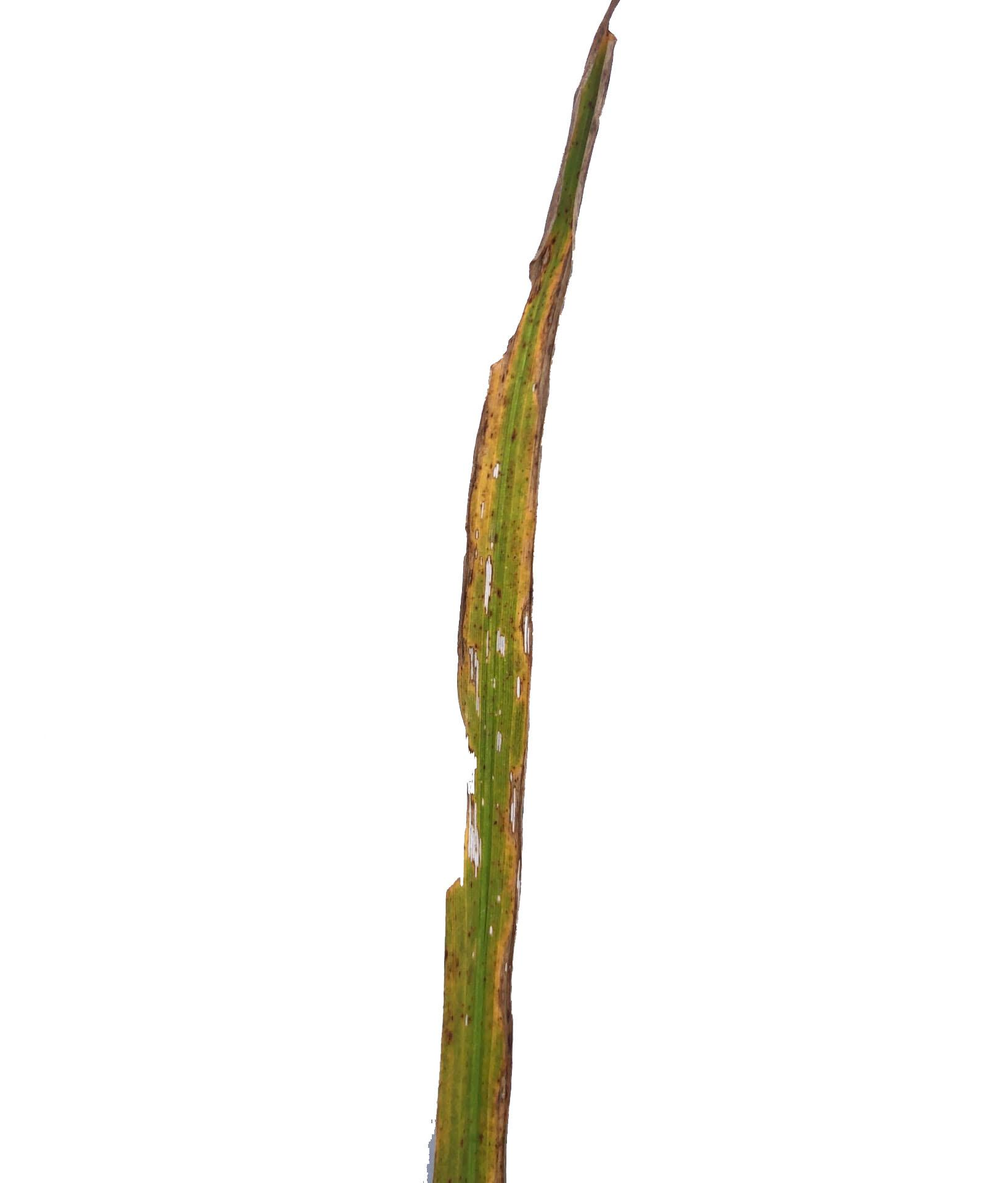Rice blast: (533, 236, 571, 424), (449, 606, 484, 710), (490, 1045, 514, 1183), (497, 896, 514, 1040), (478, 540, 499, 628), (503, 768, 527, 842), (517, 584, 536, 671)
Tungro: (426, 0, 622, 1183)
